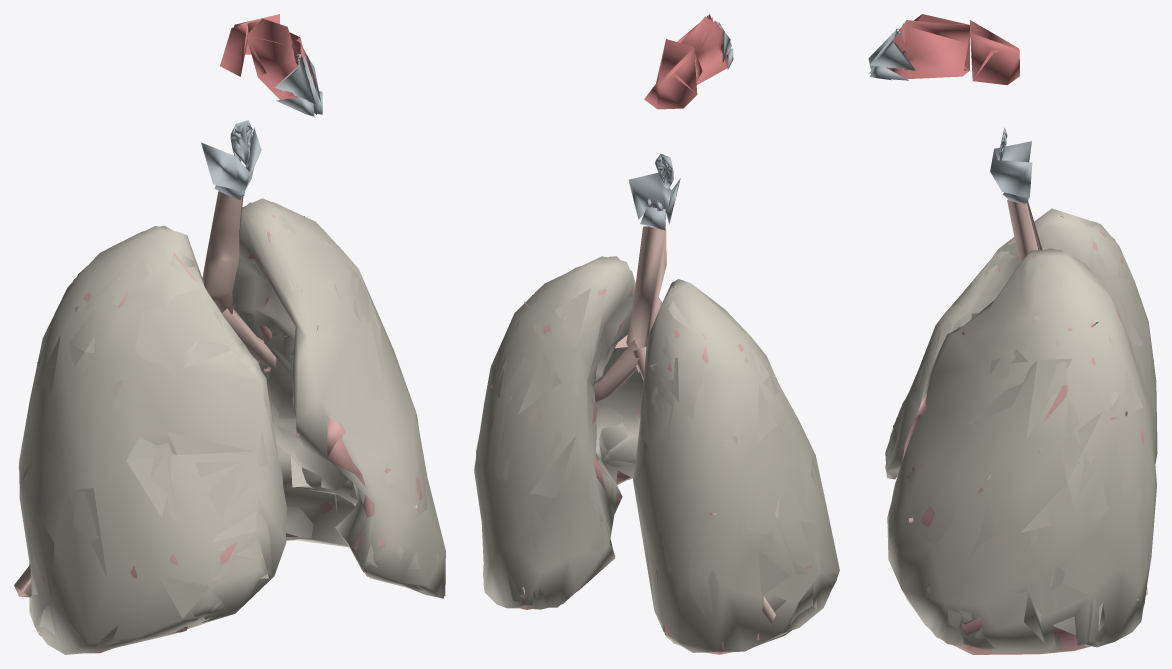
Rendered from adult_male.respiratory.LOD4.glb.
3 renders of one model, left to right at view 1: azimuth 30°, elevation 25°; view 2: azimuth 150°, elevation 25°; view 3: azimuth 270°, elevation 25°, orthographic. The views are drawn at different scales.
Visible parts, largest first — view 1: ADULT.MALE.RESPIRATORY.PLEURA, ADULT.MALE.RESPIRATORY.TRACHEA, ADULT.MALE.RESPIRATORY.MUCOSA_OF_NASAL_CAVITY, ADULT.MALE.RESPIRATORY.SUPERIOR_LOBE_OF_LEFT_LUNG, ADULT.MALE.RESPIRATORY.THYROID_CARTILAGE, ADULT.MALE.RESPIRATORY.NASOPHARYNX, ADULT.MALE.RESPIRATORY.LEFT_MAIN_BRONCHUS, ADULT.MALE.RESPIRATORY.LATERAL_PROCESS_OF_NASAL_SEPTAL_CARTI, ADULT.MALE.RESPIRATORY.EPIGLOTTIS; view 2: ADULT.MALE.RESPIRATORY.PLEURA, ADULT.MALE.RESPIRATORY.TRACHEA, ADULT.MALE.RESPIRATORY.NASOPHARYNX, ADULT.MALE.RESPIRATORY.MUCOSA_OF_NASAL_CAVITY, ADULT.MALE.RESPIRATORY.THYROID_CARTILAGE, ADULT.MALE.RESPIRATORY.LEFT_MAIN_BRONCHUS, ADULT.MALE.RESPIRATORY.INFERIOR_LOBE_OF_LEFT_LUNG; view 3: ADULT.MALE.RESPIRATORY.PLEURA, ADULT.MALE.RESPIRATORY.MUCOSA_OF_NASAL_CAVITY, ADULT.MALE.RESPIRATORY.NASOPHARYNX, ADULT.MALE.RESPIRATORY.THYROID_CARTILAGE, ADULT.MALE.RESPIRATORY.TRACHEA, ADULT.MALE.RESPIRATORY.INFERIOR_LOBE_OF_LEFT_LUNG, ADULT.MALE.RESPIRATORY.SUPERIOR_LOBE_OF_LEFT_LUNG, ADULT.MALE.RESPIRATORY.LATERAL_PROCESS_OF_NASAL_SEPTAL_CARTI.
Part boxes in pixels (x1=…): ADULT.MALE.RESPIRATORY.PLEURA: x1=18, y1=198, x2=445, y2=654; ADULT.MALE.RESPIRATORY.TRACHEA: x1=202, y1=191, x2=243, y2=314; ADULT.MALE.RESPIRATORY.MUCOSA_OF_NASAL_CAVITY: x1=246, y1=18, x2=316, y2=99; ADULT.MALE.RESPIRATORY.SUPERIOR_LOBE_OF_LEFT_LUNG: x1=248, y1=215, x2=422, y2=572; ADULT.MALE.RESPIRATORY.THYROID_CARTILAGE: x1=201, y1=127, x2=261, y2=191; ADULT.MALE.RESPIRATORY.NASOPHARYNX: x1=220, y1=14, x2=279, y2=76; ADULT.MALE.RESPIRATORY.LEFT_MAIN_BRONCHUS: x1=222, y1=308, x2=273, y2=367; ADULT.MALE.RESPIRATORY.LATERAL_PROCESS_OF_NASAL_SEPTAL_CARTI: x1=275, y1=54, x2=315, y2=103; ADULT.MALE.RESPIRATORY.EPIGLOTTIS: x1=230, y1=120, x2=252, y2=167; ADULT.MALE.RESPIRATORY.PLEURA: x1=474, y1=256, x2=839, y2=652; ADULT.MALE.RESPIRATORY.TRACHEA: x1=626, y1=226, x2=666, y2=372; ADULT.MALE.RESPIRATORY.NASOPHARYNX: x1=644, y1=39, x2=697, y2=109; ADULT.MALE.RESPIRATORY.MUCOSA_OF_NASAL_CAVITY: x1=677, y1=14, x2=728, y2=84; ADULT.MALE.RESPIRATORY.THYROID_CARTILAGE: x1=628, y1=172, x2=680, y2=224; ADULT.MALE.RESPIRATORY.LEFT_MAIN_BRONCHUS: x1=594, y1=340, x2=639, y2=402; ADULT.MALE.RESPIRATORY.INFERIOR_LOBE_OF_LEFT_LUNG: x1=491, y1=381, x2=630, y2=609; ADULT.MALE.RESPIRATORY.PLEURA: x1=885, y1=208, x2=1157, y2=652; ADULT.MALE.RESPIRATORY.MUCOSA_OF_NASAL_CAVITY: x1=886, y1=14, x2=970, y2=79; ADULT.MALE.RESPIRATORY.NASOPHARYNX: x1=970, y1=20, x2=1019, y2=85; ADULT.MALE.RESPIRATORY.THYROID_CARTILAGE: x1=990, y1=141, x2=1032, y2=197; ADULT.MALE.RESPIRATORY.TRACHEA: x1=1007, y1=199, x2=1042, y2=261; ADULT.MALE.RESPIRATORY.INFERIOR_LOBE_OF_LEFT_LUNG: x1=939, y1=428, x2=1143, y2=654; ADULT.MALE.RESPIRATORY.SUPERIOR_LOBE_OF_LEFT_LUNG: x1=888, y1=255, x2=1127, y2=527; ADULT.MALE.RESPIRATORY.LATERAL_PROCESS_OF_NASAL_SEPTAL_CARTI: x1=870, y1=30, x2=915, y2=70.
Size of the model in its own units: 0.2636 by 0.4305 by 0.1997.
